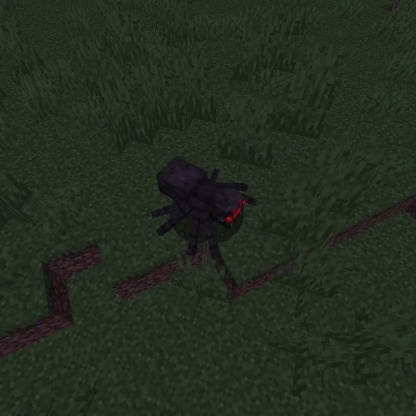spider: (147, 153, 262, 262)
